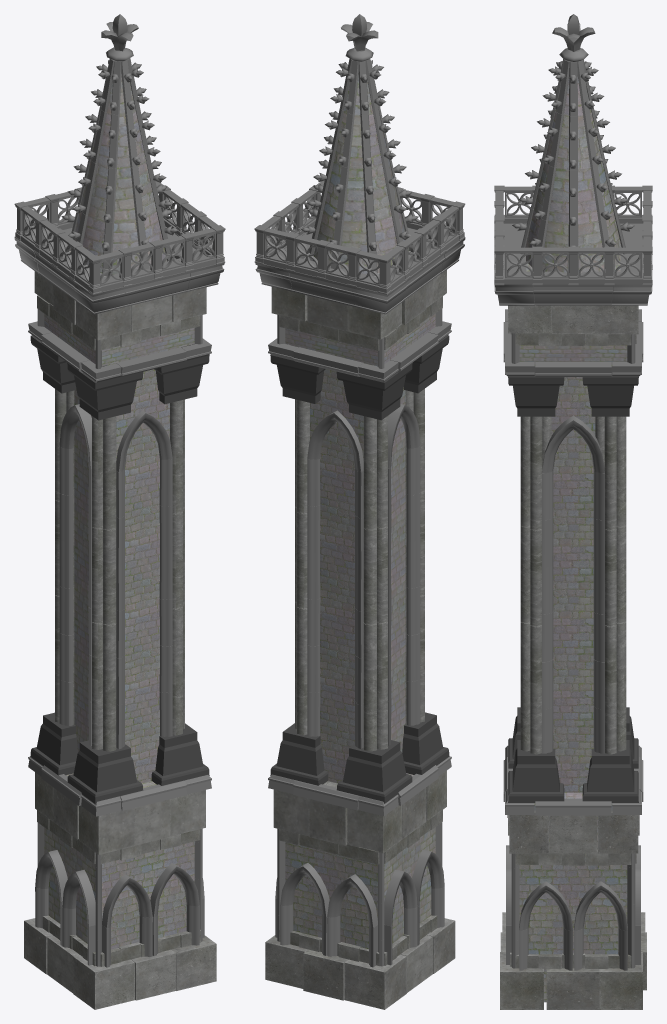
The model's file is SM_spire_large_01.fbx.
The picture shows the model from 3 angles, left to right: view 1: azimuth 30°, elevation 25°; view 2: azimuth 150°, elevation 25°; view 3: azimuth 270°, elevation 25°; orthographic projection.
Visible parts, largest first — view 1: DarkFantasyObject56; view 2: DarkFantasyObject56; view 3: DarkFantasyObject56.
Part boxes in pixels (<box>): DarkFantasyObject56: <box>14,14,225,1009</box>; DarkFantasyObject56: <box>254,14,465,1009</box>; DarkFantasyObject56: <box>494,14,652,1009</box>.
Size of the model in its own units: 138 by 949 by 141.
